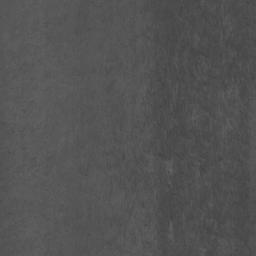Silk spot: (22, 0, 256, 256), (0, 15, 84, 203), (78, 0, 135, 28), (0, 212, 26, 239), (72, 28, 91, 51)
